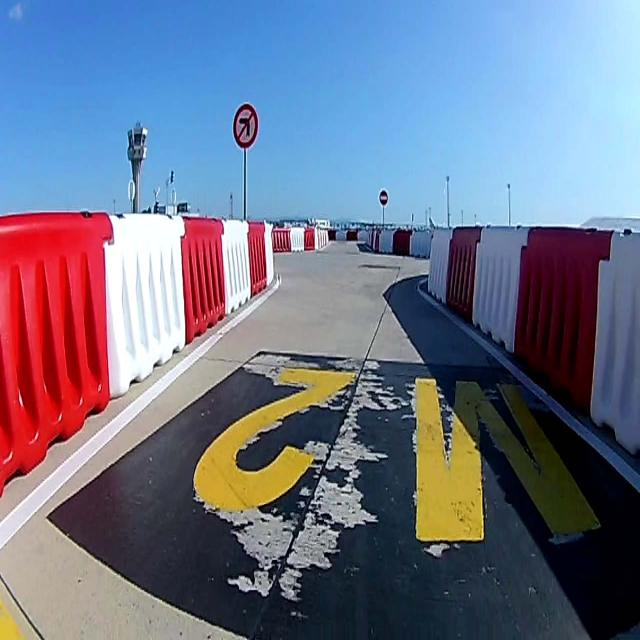soladonulmez: (234, 103, 258, 148)
